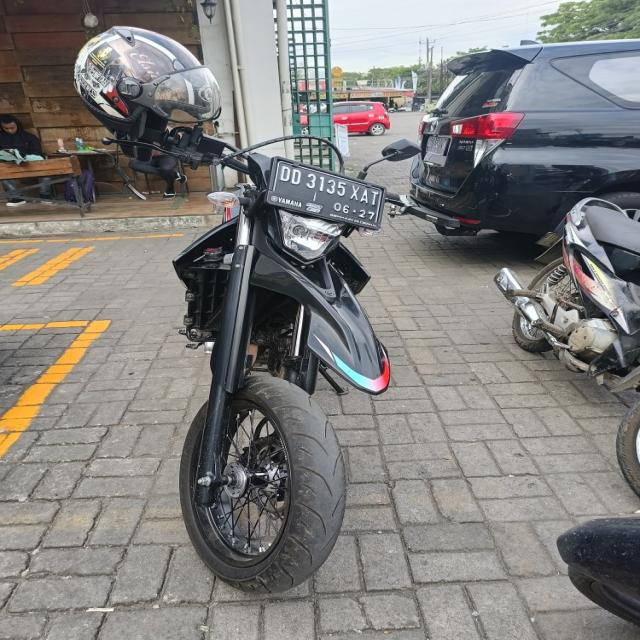plates: (262, 160, 399, 234)
